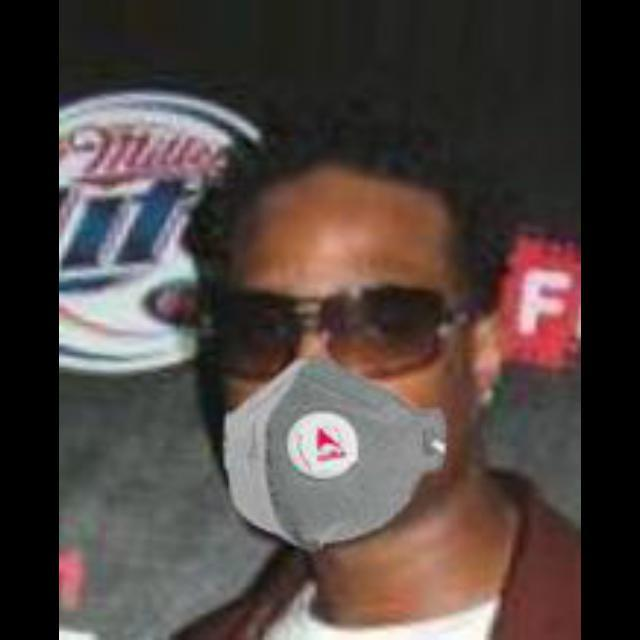suspicion: (216, 96, 504, 572)
